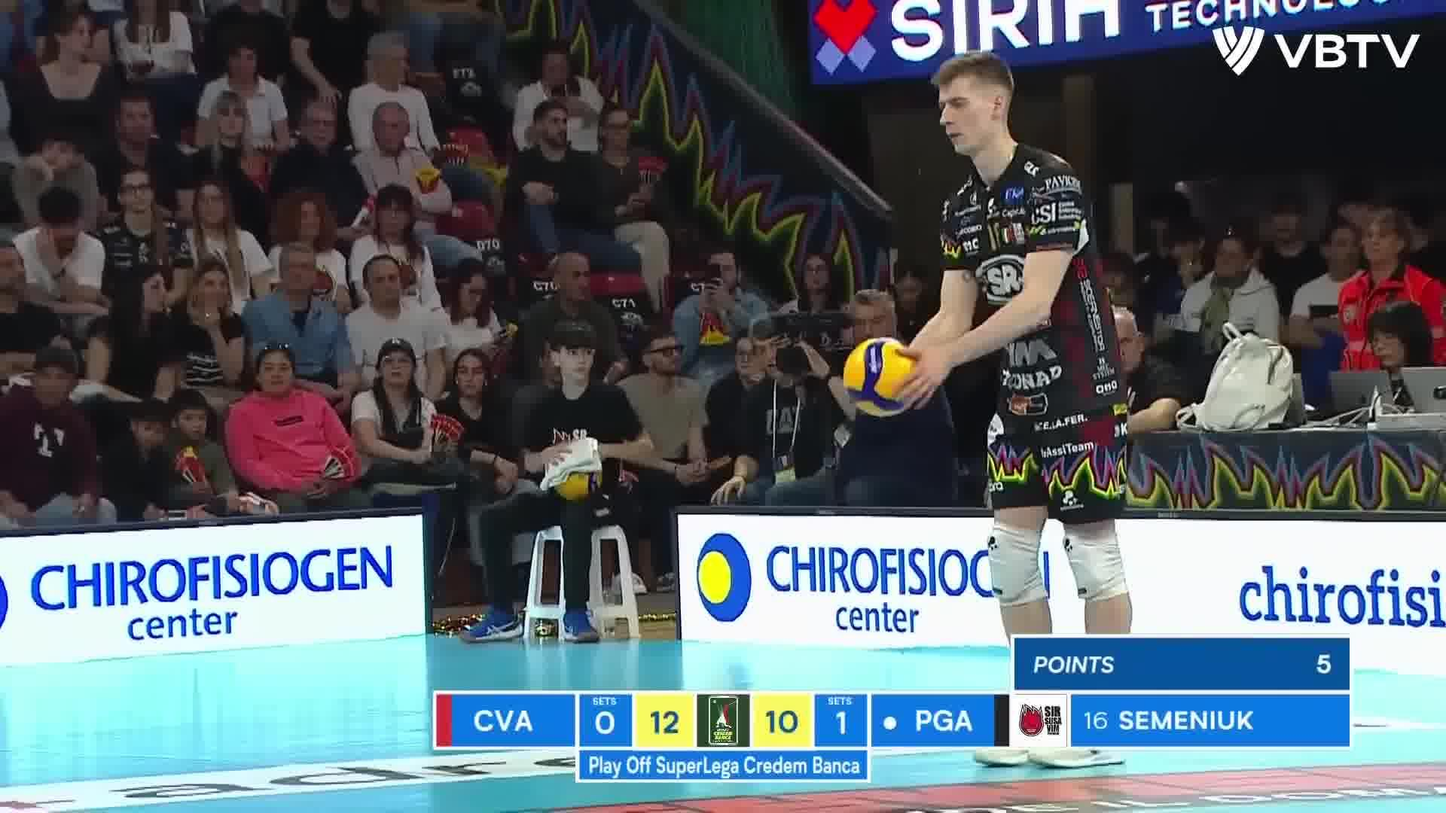balls: (831, 330, 935, 426)
